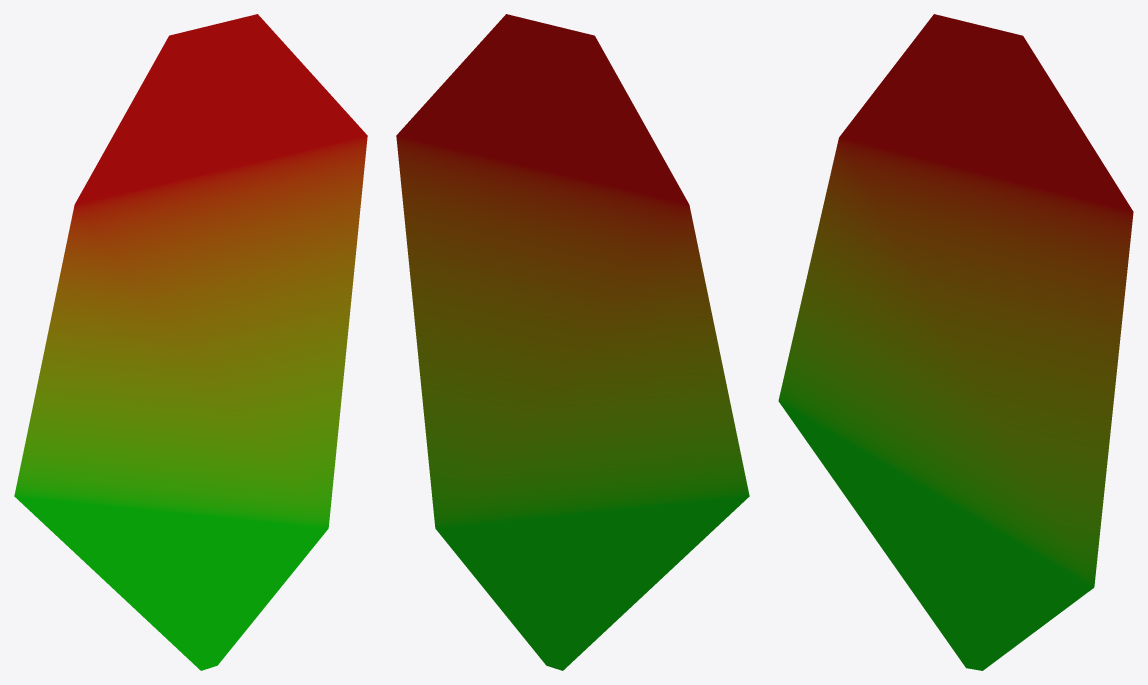
File: Sea Wheatgrass_LOD3_Var7_ui2oagjia.fbx
3 renders of one model, left to right at view 1: azimuth 30°, elevation 25°; view 2: azimuth 150°, elevation 25°; view 3: azimuth 330°, elevation 25°, orthographic.
Visible parts, largest first — view 1: _sw8f_Var7_LOD3; view 2: _sw8f_Var7_LOD3; view 3: _sw8f_Var7_LOD3.
Part boxes in pixels (x1,y1,x2,y2): _sw8f_Var7_LOD3: [14, 14, 367, 670]; _sw8f_Var7_LOD3: [396, 14, 749, 670]; _sw8f_Var7_LOD3: [778, 14, 1133, 670].
Size of the model in its own units: 31.13 by 54.15 by 2.37e-06.
